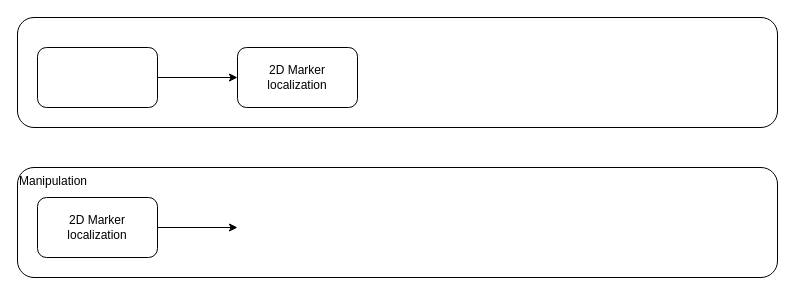
Some shapes in this 795 by 295 pixel diagram are drawn without their labels. The box of each missing label's shape, as (x1, y1, x2, y2) in pixels:
Perception: (16, 16, 778, 128)
Proximity Detection: (36, 46, 158, 108)
